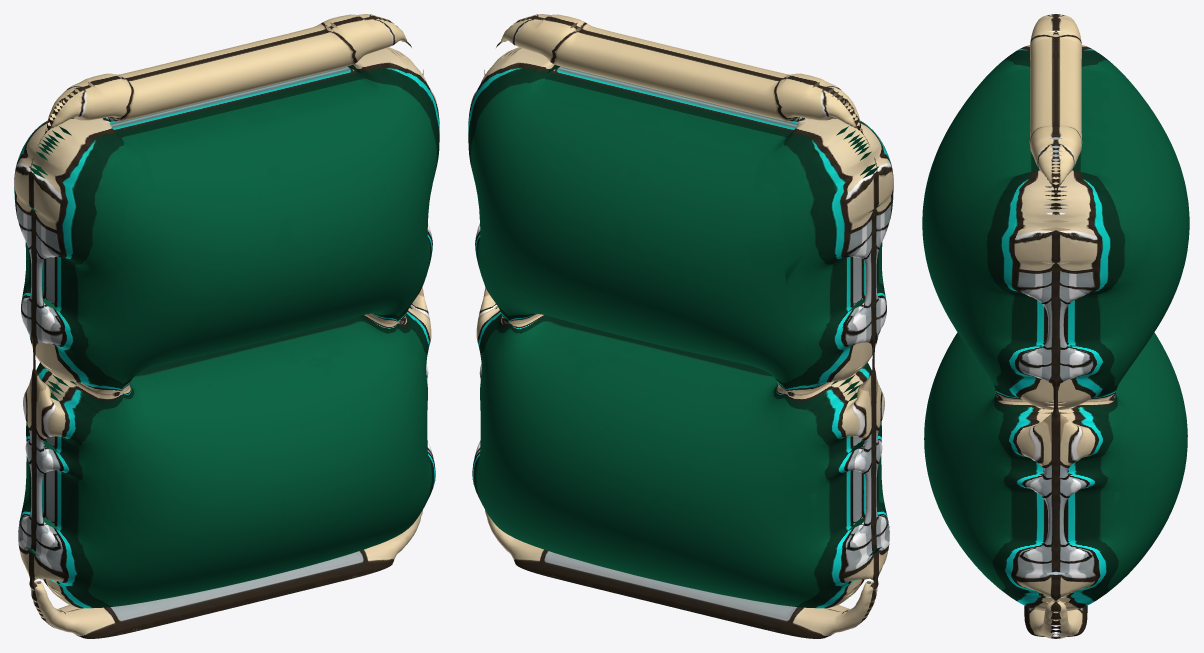
The model's file is aux_displays.glb.
3 views of the same model, side by side, from view 1: azimuth 30°, elevation 25°; view 2: azimuth 150°, elevation 25°; view 3: azimuth 270°, elevation 25° (orthographic). The views are drawn at different scales.
Parts seen in each view (by area): view 1: aux_displays; view 2: aux_displays; view 3: aux_displays.
Part boxes in pixels (left/top/right/bottom): aux_displays: left=14, top=14, right=439, bottom=638; aux_displays: left=468, top=14, right=893, bottom=638; aux_displays: left=922, top=14, right=1189, bottom=638.
Bounding box in the file's own units: 0.9889 × 1.3 × 0.6441.
Materials: 1 (1 with a texture image).
